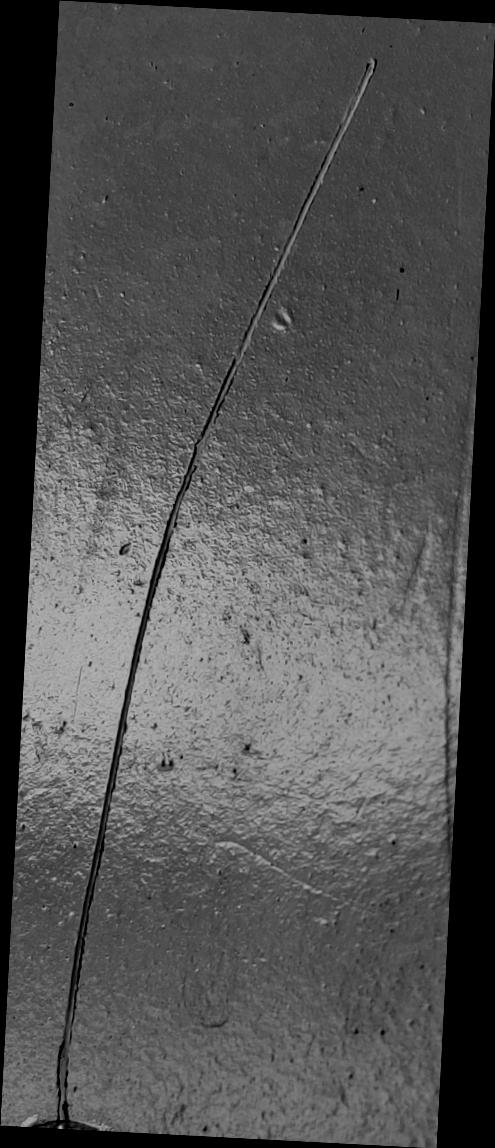scratch: (1, 1, 495, 1148)
